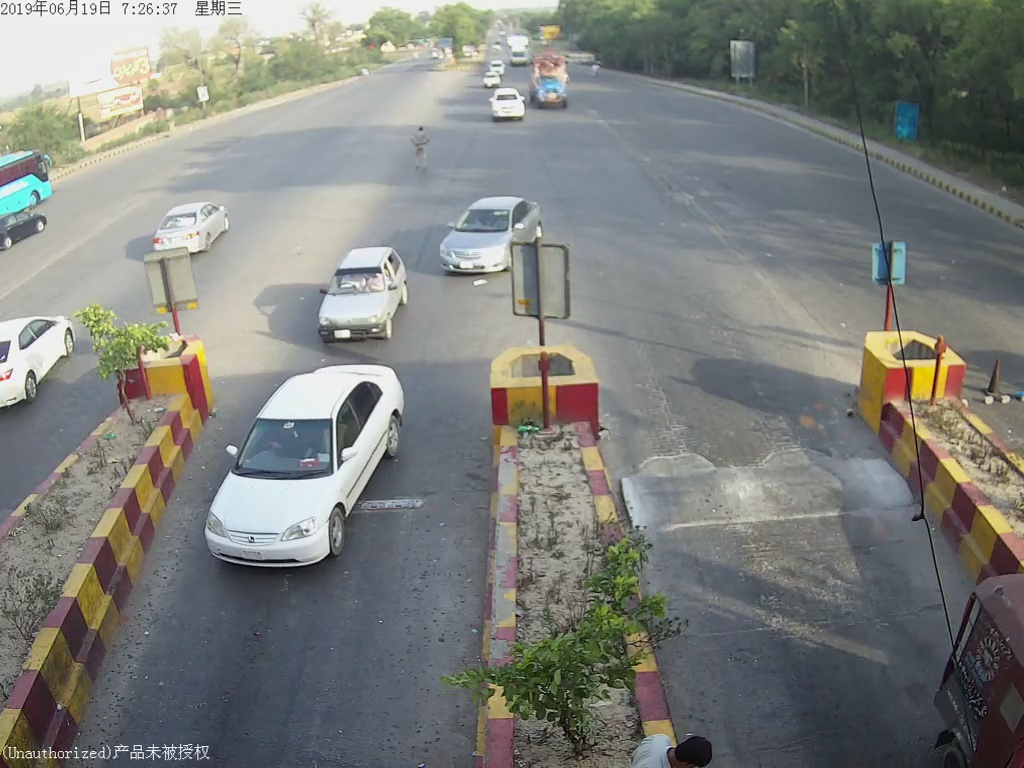Cat-1: (205, 359, 407, 579), (305, 248, 427, 348), (434, 191, 505, 276)
